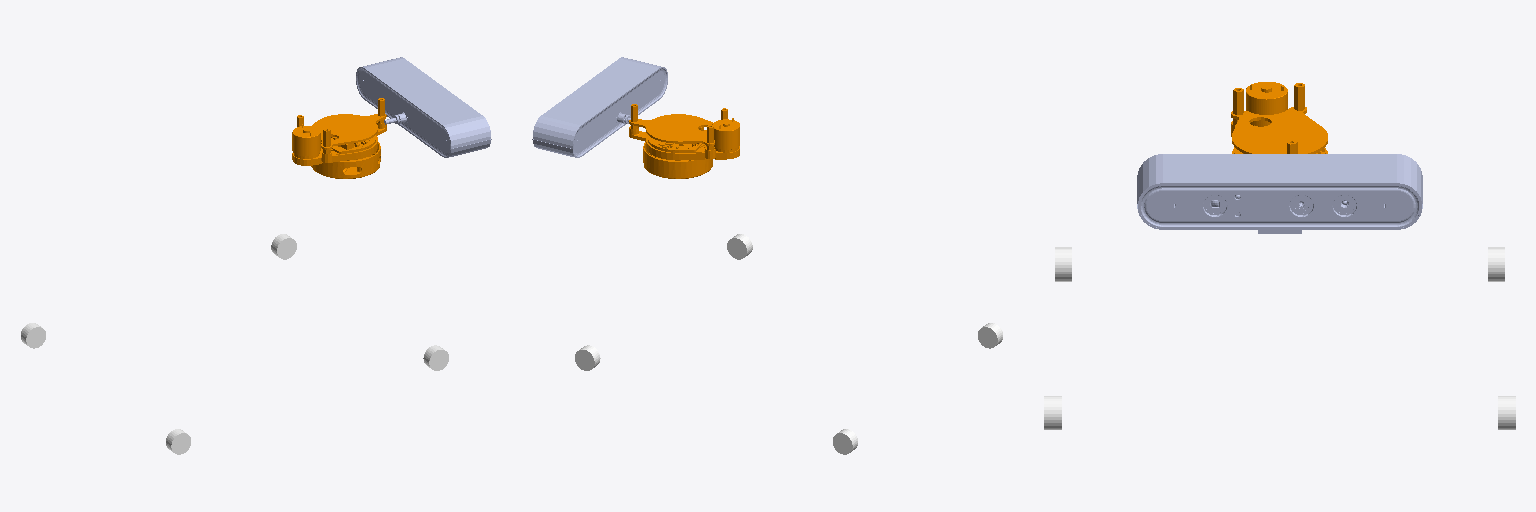
robot.urdf — tracer_mini:
<?xml version="1.0" encoding="utf-8"?>
<!-- This URDF was automatically created by SolidWorks to URDF Exporter! Originally created by [author] ([email redacted]) 
     Commit Version: 1.6.0-4-g7f85cfe  Build Version: 1.6.7995.38578
     For more information, please see http://wiki.ros.org/sw_urdf_exporter -->
<robot
  name="tracer_mini">
  <link
    name="base_link">
    <inertial>
      <origin
        xyz="0.0159871268556407 1.58872275333177E-05 -0.0309422377248268"
        rpy="0 0 0" />
      <mass
        value="24.3948952632956" />
      <inertia
        ixx="0.330322675681357"
        ixy="-8.93178579768822E-06"
        ixz="0.010552102579657"
        iyy="0.327495768676369"
        iyz="1.4143030767649E-06"
        izz="0.614434971559817" />
    </inertial>
    <visual>
      <origin
        xyz="0 0 0"
        rpy="0 0 0" />
      <geometry>
        <mesh
          filename="package://tracer_mini/meshes/base_link.STL" />
      </geometry>
      <material
        name="">
        <color
          rgba="1 1 1 1" />
      </material>
    </visual>
    <collision>
      <origin
        xyz="0 0 0"
        rpy="0 0 0" />
      <geometry>
        <mesh
          filename="package://tracer_mini/meshes/base_link.STL" />
      </geometry>
    </collision>
  </link>

  <link
    name="fl_Link">
    <inertial>
      <origin
        xyz="-0.11068 0.066655 0.10537"
        rpy="0 0 0" />
      <mass
        value="17.416" />
      <inertia
        ixx="0.24331"
        ixy="0.010574"
        ixz="8.9424E-06"
        iyy="0.43808"
        iyz="-1.4143E-06"
        izz="0.2374" />
    </inertial>
    <visual>
      <origin
        xyz="0 0 0"
        rpy="0 0 0" />
      <geometry>
        <cylinder radius="0.01" length="0.01"/>
      </geometry>
      <material
        name="">
        <color
          rgba="1 1 1 1" />
      </material>
    </visual>
    <collision>
      <origin
        xyz="0 0 0"
        rpy="0 0 0" />
      <geometry>
      <cylinder radius="0.01" length="0.01"/>
      </geometry>
    </collision>
  </link>
  <joint
    name="fl_joint"
    type="continuous">
    <origin
      xyz="0.12914 0.1312 -0.1275"
      rpy="1.5708 0 0" />
    <parent
      link="base_link" />
    <child
      link="fl_Link" />
    <axis
      xyz="0 0 -1" />
  </joint>
  <link
    name="fr_Link">
    <inertial>
      <origin
        xyz="-0.11068 0.066655 -0.10543"
        rpy="0 0 0" />
      <mass
        value="17.416" />
      <inertia
        ixx="0.24331"
        ixy="0.010574"
        ixz="8.9424E-06"
        iyy="0.43808"
        iyz="-1.4143E-06"
        izz="0.2374" />
    </inertial>
    <visual>
      <origin
        xyz="0 0 0"
        rpy="0 0 0" />
      <geometry>
        <cylinder radius="0.01" length="0.01"/>
      </geometry>
      <material
        name="">
        <color
          rgba="1 1 1 1" />
      </material>
    </visual>
    <collision>
      <origin
        xyz="0 0 0"
        rpy="0 0 0" />
      <geometry>
        <cylinder radius="0.05" length="0.05"/>
      </geometry>
    </collision>
  </link>
  <joint
    name="fr_joint"
    type="continuous">
    <origin
      xyz="0.12914 -0.1312 -0.1275"
      rpy="1.5708 0 0" />
    <parent
      link="base_link" />
    <child
      link="fr_Link" />
    <axis
      xyz="0 0 -1" />
  </joint>
  <link
    name="rr_Link">
    <inertial>
      <origin
        xyz="0.14232 0.089655 -0.12503"
        rpy="0 0 0" />
      <mass
        value="17.416" />
      <inertia
        ixx="0.24331"
        ixy="0.010574"
        ixz="8.9424E-06"
        iyy="0.43808"
        iyz="-1.4143E-06"
        izz="0.2374" />
    </inertial>
    <visual>
      <origin
        xyz="0 0 0"
        rpy="0 0 0" />
      <geometry>
        <cylinder radius="0.01" length="0.01"/>
      </geometry>
      <material
        name="">
        <color
          rgba="1 1 1 1" />
      </material>
    </visual>
    <collision>
      <origin
        xyz="0 0 0"
        rpy="0 0 0" />
      <geometry>
        <cylinder radius="0.03" length="0.03"/>
      </geometry>
    </collision>
  </link>
  <joint
    name="rr_joint"
    type="continuous">
    <origin
      xyz="-0.12386 -0.125 -0.1505"
      rpy="1.5708 0 0" />
    <parent
      link="base_link" />
    <child
      link="rr_Link" />
    <axis
      xyz="0 0 1" />
  </joint>
  <link
    name="rl_Link">
    <inertial>
      <origin
        xyz="0.14232 0.089655 0.12497"
        rpy="0 0 0" />
      <mass
        value="17.416" />
      <inertia
        ixx="0.24331"
        ixy="0.010574"
        ixz="8.9424E-06"
        iyy="0.43808"
        iyz="-1.4143E-06"
        izz="0.2374" />
    </inertial>
    <visual>
      <origin
        xyz="0 0 0"
        rpy="0 0 0" />
      <geometry>
        <cylinder radius="0.01" length="0.01"/>
      </geometry>
      <material
        name="">
        <color
          rgba="1 1 1 1" />
      </material>
    </visual>
    <collision>
      <origin
        xyz="0 0 0"
        rpy="0 0 0" />
      <geometry>
        <cylinder radius="0.03" length="0.03"/>
      </geometry>
    </collision>
  </link>
  <joint
    name="rl_joint"
    type="continuous">
    <origin
      xyz="-0.12386 0.125 -0.1505"
      rpy="1.5708 0 0" />
    <parent
      link="base_link" />
    <child
      link="rl_Link" />
    <axis
      xyz="0 0 1" />
  </joint>
  <link
    name="laser_Link">
    <inertial>
      <origin
        xyz="0.15388 0.025965 -0.00099778"
        rpy="0 0 0" />
      <mass
        value="8.4173" />
      <inertia
        ixx="0.64711"
        ixy="0.071694"
        ixz="1.2977E-08"
        iyy="0.25316"
        iyz="1.0551E-09"
        izz="0.89983" />
    </inertial>
    <visual>
      <origin
        xyz="0 0 0"
        rpy="0 0 0" />
      <geometry>
        <mesh
          filename="package://tracer_mini/meshes/laser_Link.STL" />
      </geometry>
      <material
        name="">
        <color
          rgba="1 0.6 0 1" />
      </material>
    </visual>
    <collision>
      <origin
        xyz="0 0 0"
        rpy="0 0 0" />
      <geometry>
        <mesh
          filename="package://tracer_mini/meshes/laser_Link.STL" />
      </geometry>
    </collision>
  </link>
  <joint
    name="laser_joint"
    type="fixed">
    <origin
      xyz="0.11454 0.0015587 0.015681"
      rpy="0 0 0" />
    <parent
      link="base_link" />
    <child
      link="laser_Link" />
    <axis
      xyz="0 0 0" />
  </joint>
  <link
    name="camera_Link">
    <inertial>
      <origin
        xyz="-0.01921 0.00063228 -0.00029809"
        rpy="0 0 0" />
      <mass
        value="0.18466" />
      <inertia
        ixx="0.00039611"
        ixy="4.5151E-08"
        ixz="-7.4095E-08"
        iyy="3.5713E-05"
        iyz="1.8221E-09"
        izz="0.00040522" />
    </inertial>
    <visual>
      <origin
        xyz="0 0 0"
        rpy="0 0 0" />
      <geometry>
        <mesh
          filename="package://tracer_mini/meshes/camera_Link.STL" />
      </geometry>
      <material
        name="">
        <color
          rgba="0.79216 0.81961 0.93333 1" />
      </material>
    </visual>
    <collision>
      <origin
        xyz="0 0 0"
        rpy="0 0 0" />
      <geometry>
        <mesh
          filename="package://tracer_mini/meshes/camera_Link.STL" />
      </geometry>
    </collision>
  </link>
  <joint
    name="camera_joint"
    type="fixed">
    <origin
      xyz="0.21144 -0.00064499 0.043"
      rpy="0 0 0" />
    <parent
      link="base_link" />
    <child
      link="camera_Link" />
    <axis
      xyz="0 0 0" />
  </joint>
</robot>

--- Facts derived from the render (not from the file) ---
3 views of the same robot in one strip: view 1: azimuth 30°, elevation 25°; view 2: azimuth 150°, elevation 25°; view 3: azimuth 270°, elevation 25° (orthographic).
Robot: tracer_mini — 7 links, 6 joints (4 continuous, 2 fixed); root link base_link; default pose: all joints at 0.
Links seen in each view (by area): view 1: camera_Link, laser_Link; view 2: camera_Link, laser_Link; view 3: camera_Link, laser_Link, fl_Link, fr_Link, rr_Link, rl_Link.
Boxes of the visible links, left/top/right/bottom form: camera_Link: left=356, top=57, right=491, bottom=157; laser_Link: left=292, top=98, right=386, bottom=178; camera_Link: left=532, top=57, right=667, bottom=157; laser_Link: left=629, top=104, right=739, bottom=178; camera_Link: left=1137, top=154, right=1422, bottom=233; laser_Link: left=1231, top=82, right=1327, bottom=153; fl_Link: left=1498, top=396, right=1515, bottom=429; fr_Link: left=1044, top=396, right=1061, bottom=429; rr_Link: left=1055, top=247, right=1071, bottom=281; rl_Link: left=1488, top=247, right=1504, bottom=281.
Bounding box of the posed robot: 0.346 × 0.2724 × 0.2185 m (x, y, z).
2 mesh visuals loaded from 3 distinct referenced files (2 binary STL); not drawn: 1 (reference not matched to a file when rendering).